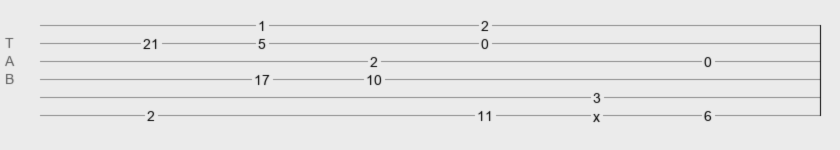0: (481, 36, 489, 46), (704, 54, 712, 64)
1: (258, 18, 266, 28)
10: (366, 72, 382, 82)
11: (477, 108, 493, 118)
17: (254, 72, 270, 82)
2: (147, 108, 155, 118), (370, 54, 378, 64), (481, 18, 489, 28)
21: (143, 36, 159, 46)
3: (593, 90, 601, 100)
5: (258, 36, 266, 46)
6: (704, 108, 712, 118)
x: (593, 109, 600, 117)
